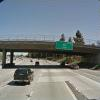Bridge: (7, 29, 100, 61)
